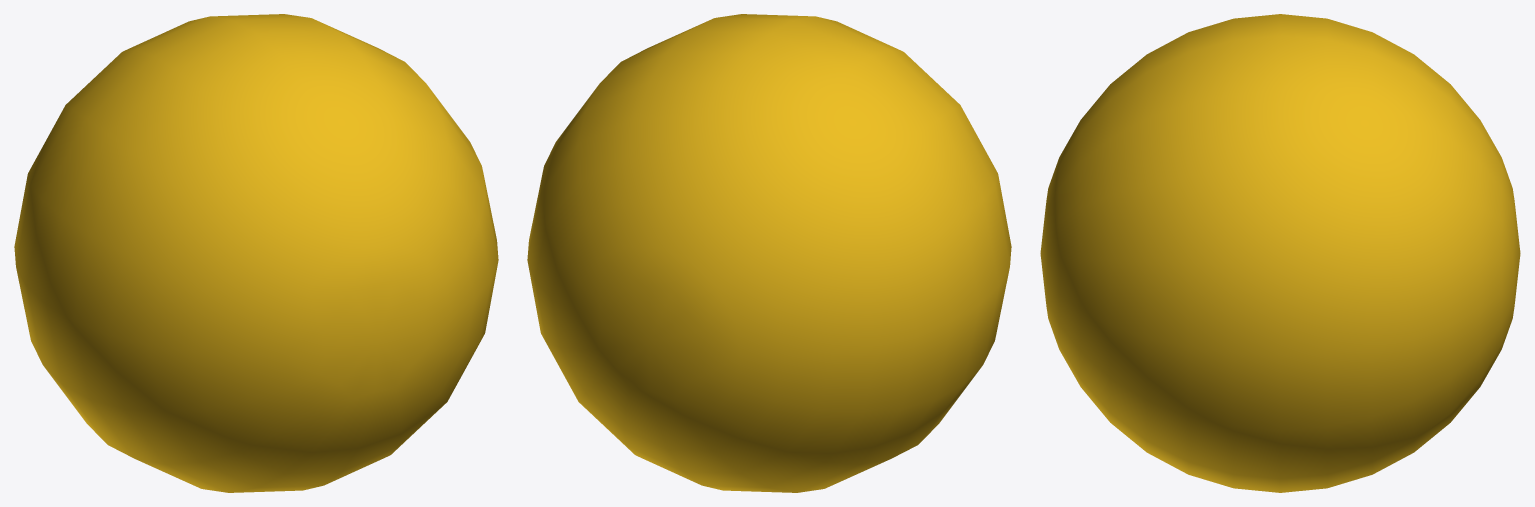
File: Pooltable_Ball_Single.fbx
3 views of the same model, side by side, from view 1: azimuth 30°, elevation 25°; view 2: azimuth 150°, elevation 25°; view 3: azimuth 270°, elevation 25° (orthographic).
Parts seen in each view (by area): view 1: Ball_Yellow; view 2: Ball_Yellow; view 3: Ball_Yellow.
Part boxes in pixels (box(x1,y1,x2,y2)): Ball_Yellow: box(14, 14, 498, 492); Ball_Yellow: box(527, 14, 1011, 492); Ball_Yellow: box(1040, 14, 1520, 492).
Size of the model in its own units: 572 by 572 by 572.
